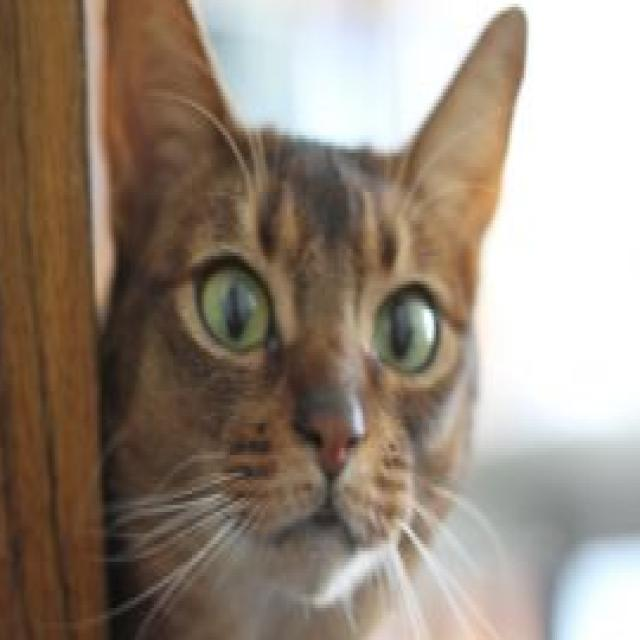Abyssinian: (83, 0, 536, 640)
